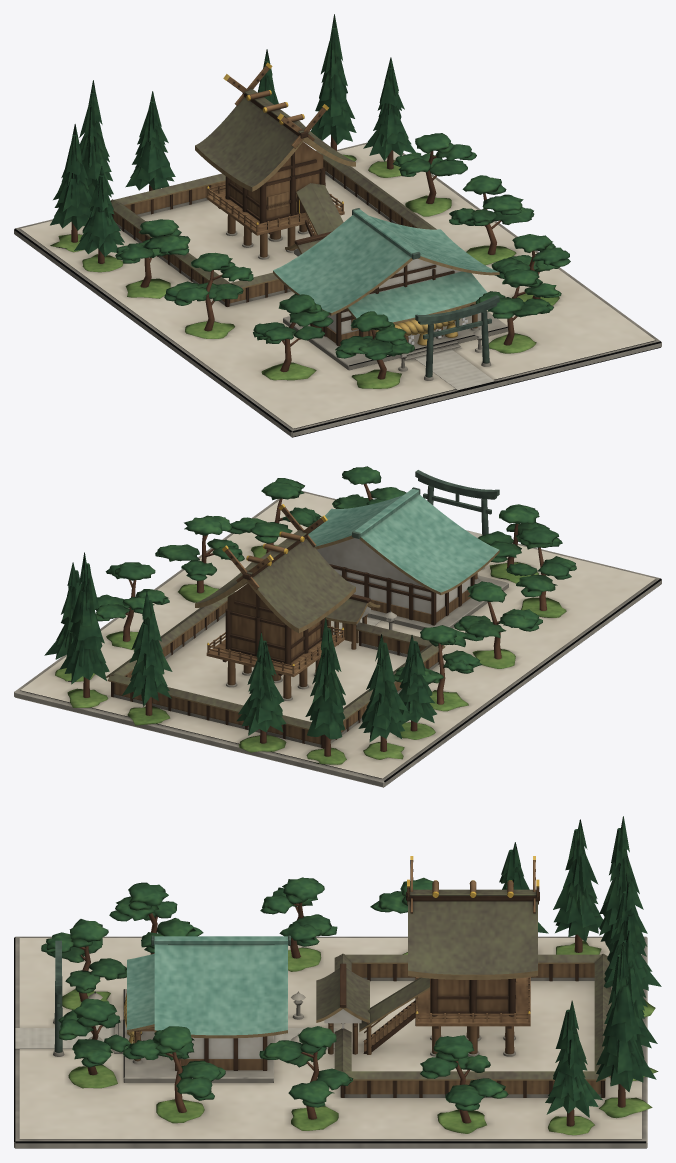
File: izumo-taisha.glb
3 renders of one model, top to bottom at view 1: azimuth 30°, elevation 25°; view 2: azimuth 150°, elevation 25°; view 3: azimuth 270°, elevation 25°, orthographic. The views are drawn at different scales.
Parts seen in each view (by area): view 1: izumo-taisha; view 2: izumo-taisha; view 3: izumo-taisha.
Part boxes in pixels (<box>): izumo-taisha: <box>14,14,661,437</box>; izumo-taisha: <box>14,466,661,787</box>; izumo-taisha: <box>14,816,661,1148</box>.
Size of the model in its own units: 60.71 by 24.24 by 79.75.
1 material, 1 textured.
